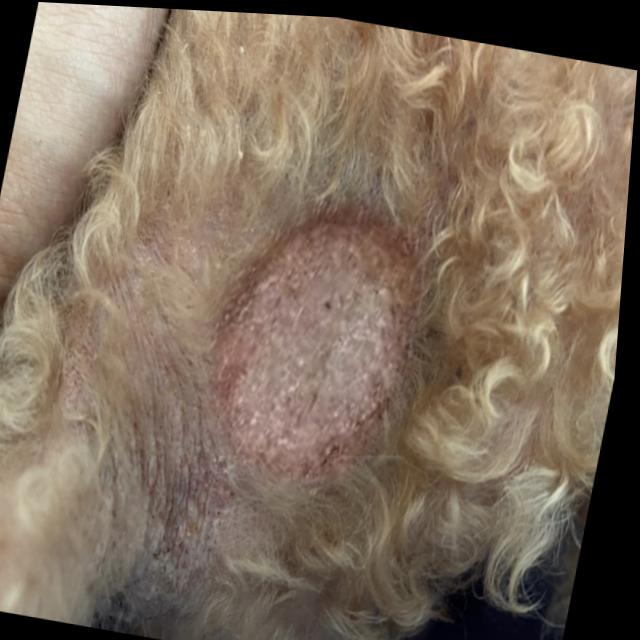ringworm: (201, 181, 436, 501)
